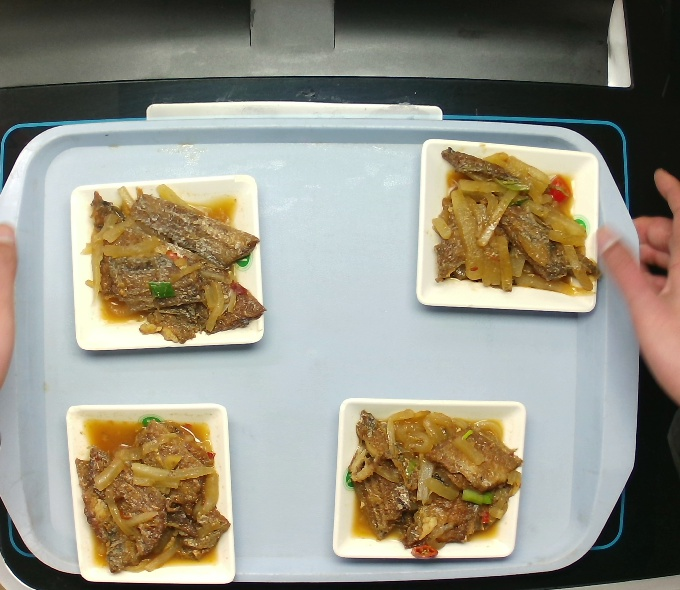wcq-DaiYu: (78, 176, 268, 350), (330, 396, 525, 565), (422, 141, 603, 304), (74, 401, 237, 578)
